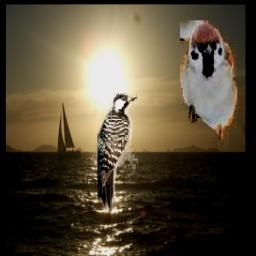Sparrow: (179, 21, 236, 153)
Woodpecker: (98, 94, 139, 213)
